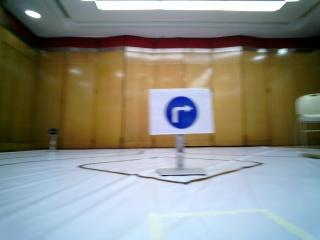right: (150, 88, 210, 131)
